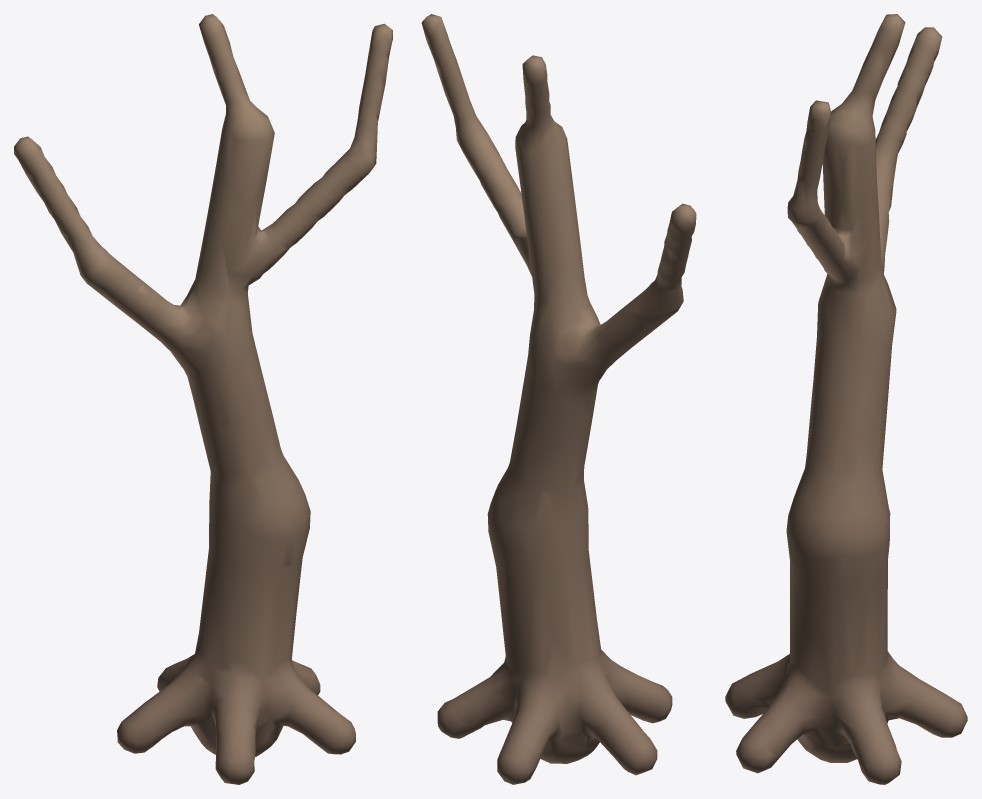
The model's file is Tree_Dead_1.fbx.
3 renders of one model, left to right at view 1: azimuth 30°, elevation 25°; view 2: azimuth 150°, elevation 25°; view 3: azimuth 270°, elevation 25°, orthographic. The views are drawn at different scales.
Visible parts, largest first — view 1: Tree_Dead_1; view 2: Tree_Dead_1; view 3: Tree_Dead_1.
Part boxes in pixels (<box>): Tree_Dead_1: <box>14,14,392,784</box>; Tree_Dead_1: <box>421,14,696,784</box>; Tree_Dead_1: <box>725,14,967,784</box>.
Size of the model in its own units: 2.12 by 4.53 by 1.34.
